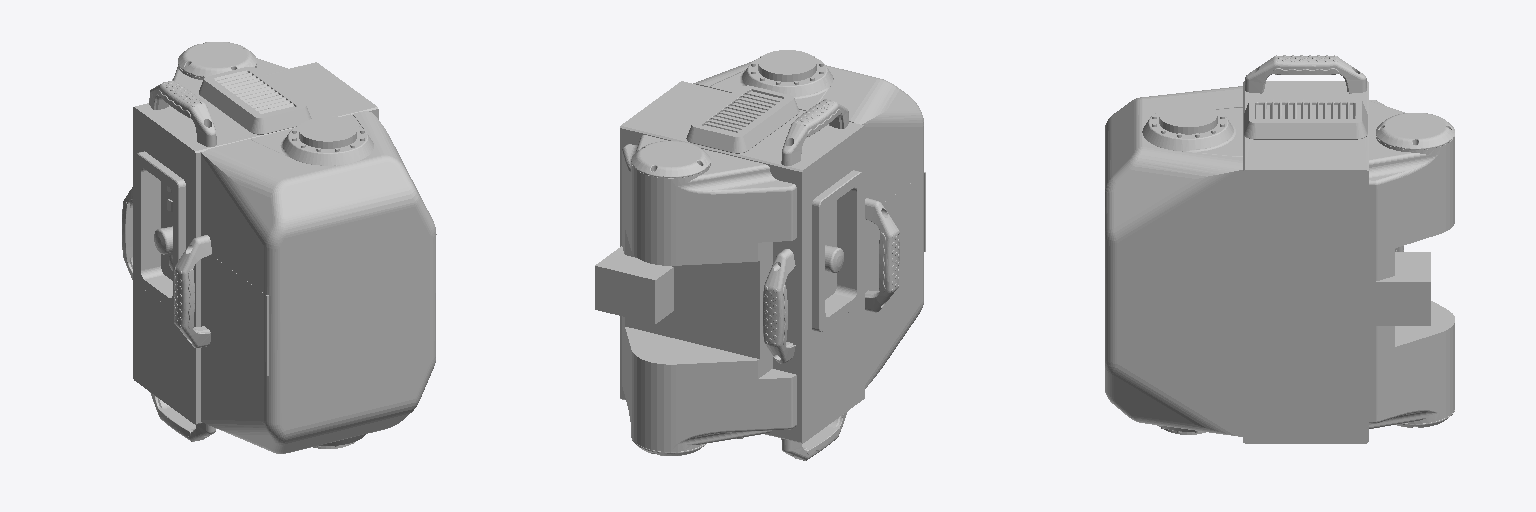
File: torso_blue.obj
The picture shows the model from 3 angles: view 1: azimuth 30°, elevation 25°; view 2: azimuth 150°, elevation 25°; view 3: azimuth 270°, elevation 25°; orthographic projection.
Parts seen in each view (by area): view 1: TorsoRollLink; view 2: TorsoRollLink; view 3: TorsoRollLink.
Boxes of the visible parts, x1,y1,x2,y2 form: TorsoRollLink: [122, 42, 436, 453]; TorsoRollLink: [595, 50, 925, 460]; TorsoRollLink: [1105, 55, 1454, 443].
Bounding box in the file's own units: 0.2869 × 0.4453 × 0.4185.